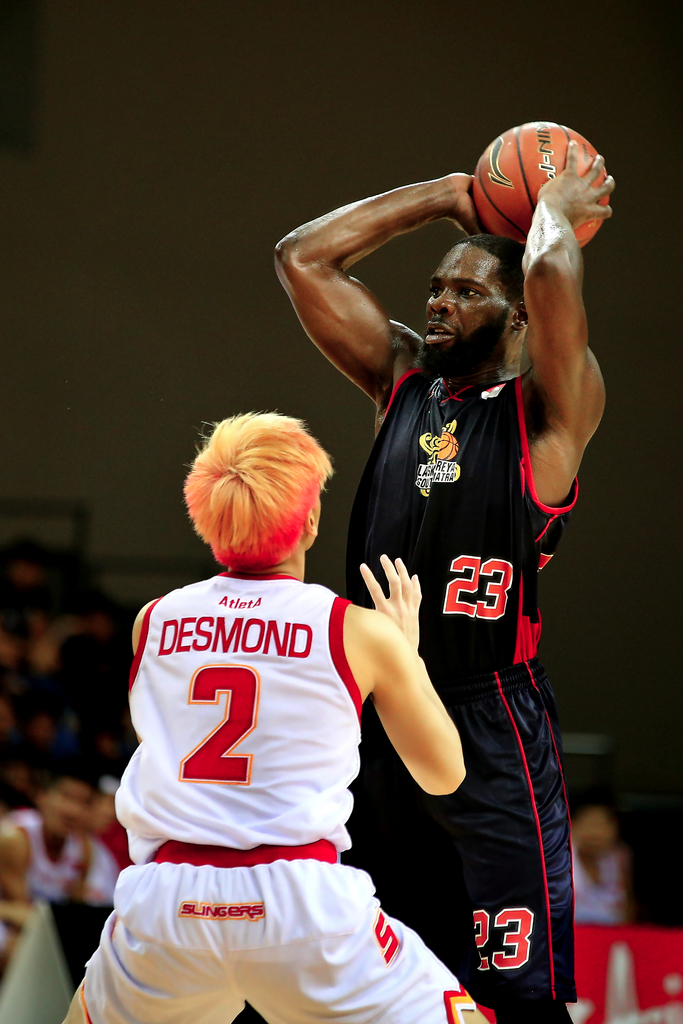Ball: (471, 122, 609, 248)
